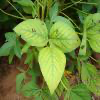Soyabean leaf: (37, 45, 67, 97), (11, 18, 49, 49), (48, 20, 81, 54)
